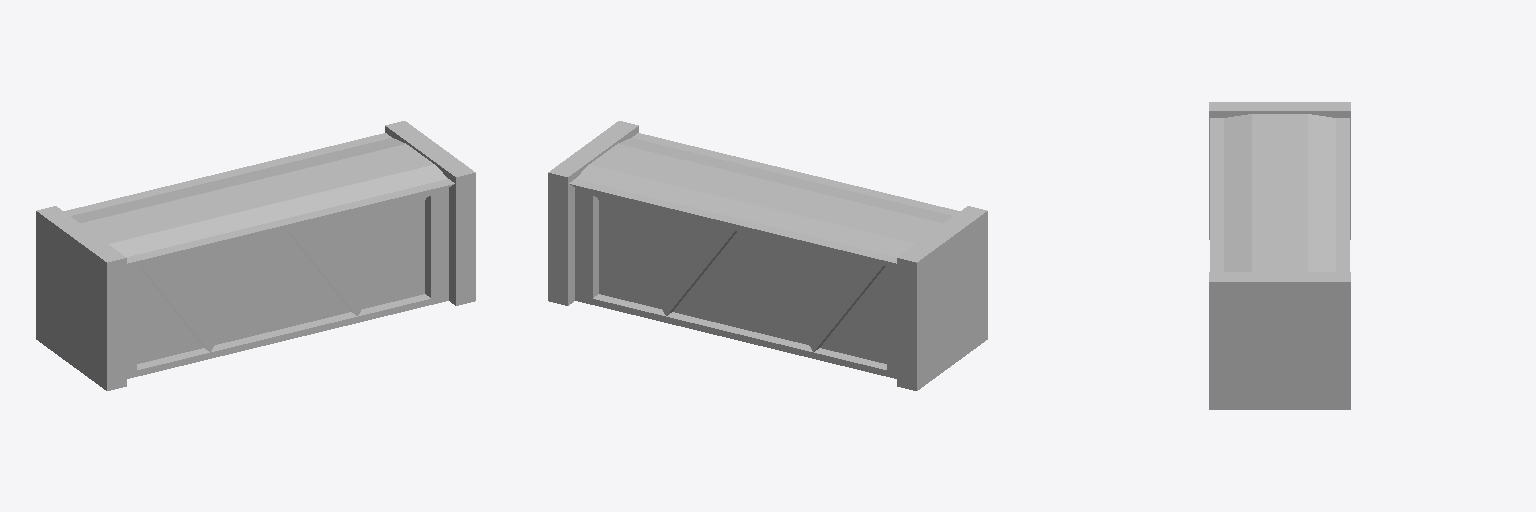
The model's file is connector.obj.
The picture shows the model from 3 angles: view 1: azimuth 30°, elevation 25°; view 2: azimuth 150°, elevation 25°; view 3: azimuth 270°, elevation 25°; orthographic projection.
Visible parts, largest first — view 1: Cube; view 2: Cube; view 3: Cube.
Part boxes in pixels (bbox=[...]): Cube: bbox=[36, 121, 475, 390]; Cube: bbox=[548, 121, 987, 390]; Cube: bbox=[1209, 102, 1350, 409].
Bounding box in the file's own units: 6 × 2 × 2.